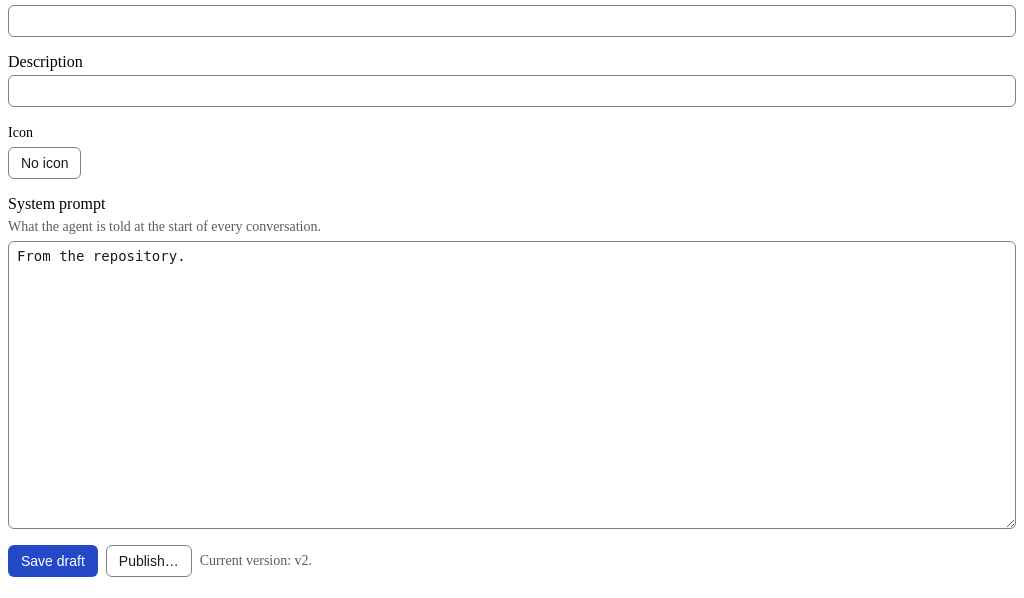
gallery agent editor › saves the draft with If-Match and shows Customized
(page scrolled)
Replace the text in the text box labelled "System prompt" with "Edited." at {"x": 512, "y": 384}, box x1=8 y1=240 x2=1016 y2=528
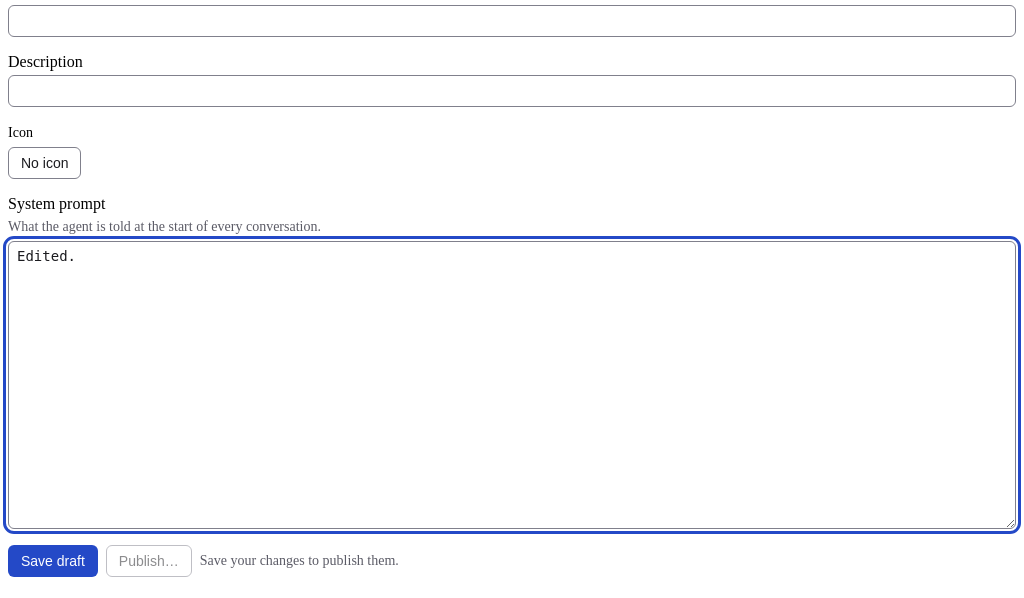
Result: the button "Publish…" is disabled at x1=106 y1=544 x2=192 y2=576
Click the button "Save draft" at {"x": 53, "y": 560}, box x1=8 y1=544 x2=98 y2=576
(page scrolled)
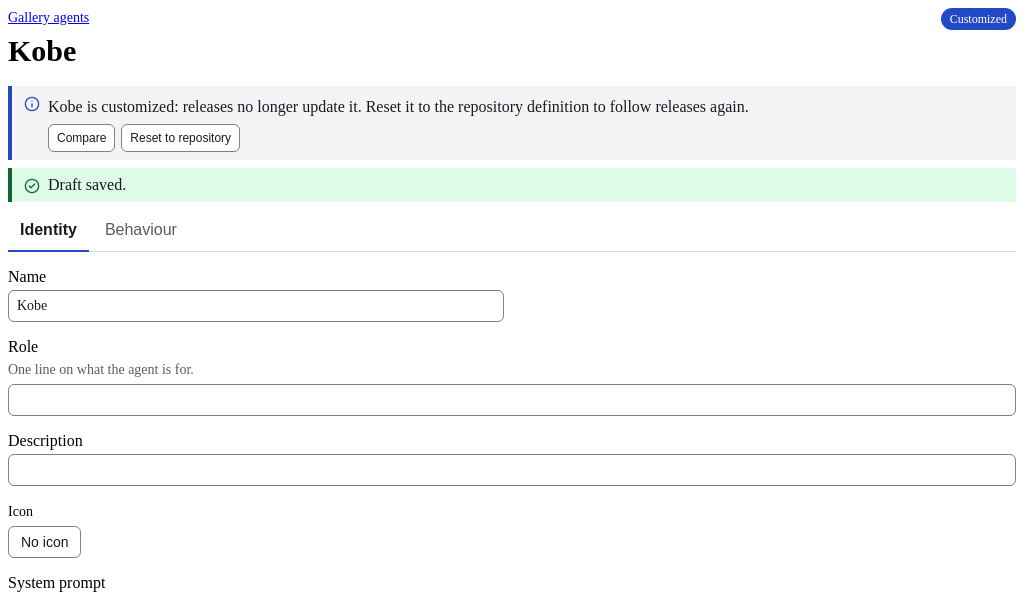
Result: the text "Draft saved." is shown at x1=48 y1=176 x2=126 y2=192
Result: the text "Customized" is shown at x1=941 y1=8 x2=1016 y2=30
Result: the text "Kobe is customized: releases no longer update it" is shown at x1=48 y1=98 x2=749 y2=114
